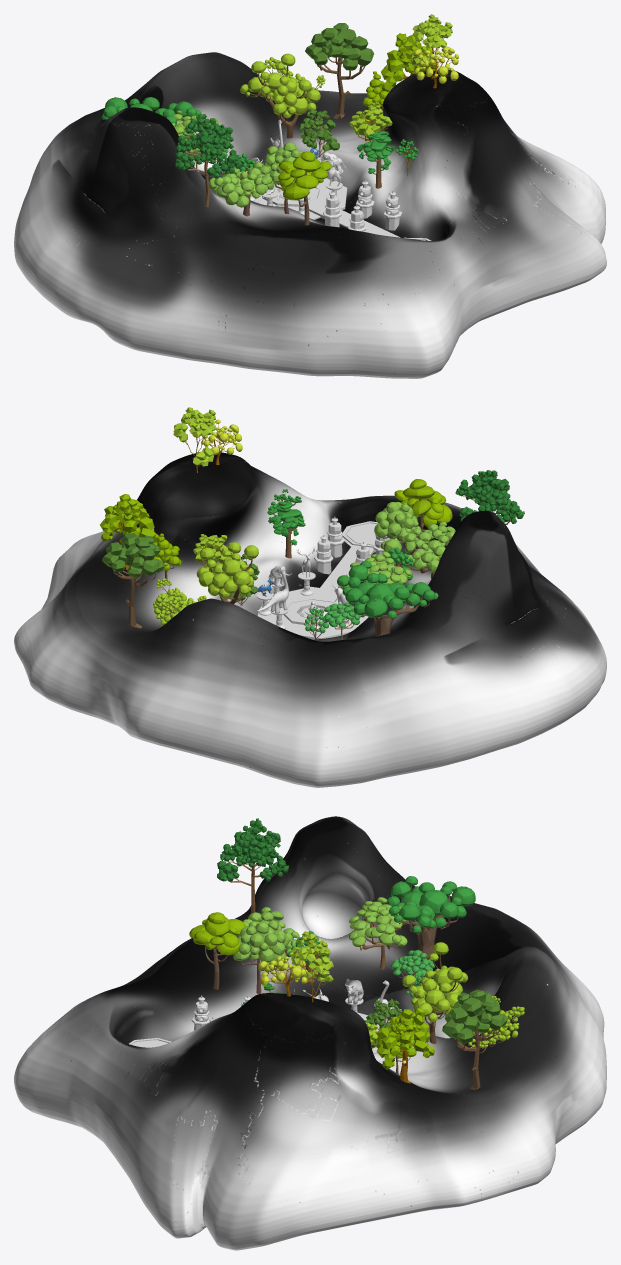
3 views of the same model, one above another, from view 1: azimuth 30°, elevation 25°; view 2: azimuth 150°, elevation 25°; view 3: azimuth 270°, elevation 25° (orthographic). The views are drawn at different scales.
Parts seen in each view (by area): view 1: 岛, ploygon128, ploygon110, ploygon116, ploygon130, ploygon138, ploygon90, ploygon122, ploygon92, ploygon136, ploygon96, ploygon118 (+6 smaller); view 2: 岛, ploygon122, ploygon110, ploygon116, ploygon128, ploygon130, ploygon90, ploygon138, 立方体.020, ploygon142, ploygon96, 柱体.030 (+9 smaller); view 3: 岛, ploygon122, ploygon128, ploygon116, ploygon110, ploygon90, ploygon146, ploygon142, ploygon138, ploygon96, ploygon136, ploygon126 (+3 smaller).
Boxes of the visible parts, left/top/right/bottom form: 岛: left=14, top=52, right=606, bottom=378; ploygon128: left=175, top=114, right=243, bottom=207; ploygon110: left=240, top=53, right=320, bottom=138; ploygon116: left=305, top=23, right=373, bottom=119; ploygon130: left=209, top=162, right=278, bottom=216; ploygon138: left=278, top=151, right=331, bottom=225; ploygon90: left=381, top=33, right=437, bottom=91; ploygon122: left=101, top=97, right=201, bottom=125; ploygon92: left=299, top=108, right=339, bottom=157; ploygon136: left=413, top=46, right=458, bottom=88; ploygon96: left=410, top=14, right=452, bottom=79; ploygon118: left=357, top=131, right=395, bottom=188; 岛: left=14, top=452, right=606, bottom=787; ploygon122: left=337, top=561, right=438, bottom=636; ploygon110: left=196, top=542, right=258, bottom=604; ploygon116: left=101, top=533, right=164, bottom=628; ploygon128: left=455, top=470, right=524, bottom=524; ploygon130: left=404, top=521, right=455, bottom=578; ploygon90: left=100, top=494, right=158, bottom=569; ploygon138: left=394, top=479, right=452, bottom=548; 立方体.020: left=283, top=545, right=374, bottom=625; ploygon142: left=374, top=502, right=421, bottom=567; ploygon96: left=173, top=407, right=216, bottom=472; 柱体.030: left=257, top=586, right=368, bottom=639; 岛: left=14, top=816, right=606, bottom=1250; ploygon122: left=387, top=876, right=475, bottom=958; ploygon128: left=217, top=818, right=288, bottom=913; ploygon116: left=442, top=989, right=507, bottom=1089; ploygon110: left=402, top=942, right=467, bottom=1043; ploygon90: left=376, top=1007, right=434, bottom=1083; ploygon146: left=349, top=897, right=408, bottom=969; ploygon142: left=233, top=920, right=286, bottom=993; ploygon138: left=189, top=912, right=246, bottom=989; ploygon96: left=291, top=931, right=333, bottom=1002; ploygon136: left=258, top=952, right=307, bottom=996; ploygon126: left=468, top=995, right=524, bottom=1053.
Size of the model in its own units: 37101 by 15856 by 34051.
